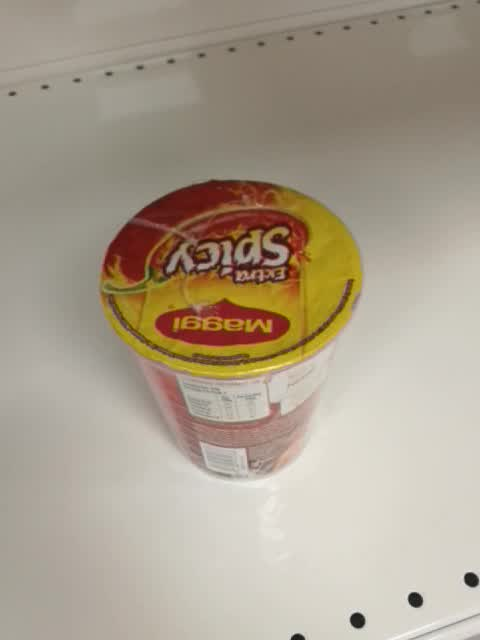maggi: (99, 177, 365, 482)
